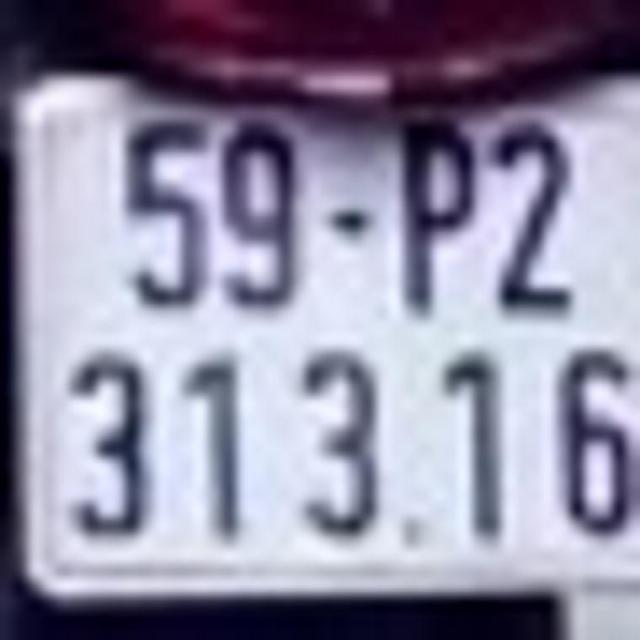1: (441, 338, 511, 540), (180, 349, 248, 546)
2: (493, 118, 587, 320)
3: (71, 354, 150, 541), (312, 346, 378, 540)
5: (120, 119, 204, 306)
6: (552, 340, 635, 540)
9: (219, 119, 306, 316)
P: (392, 117, 476, 316)
